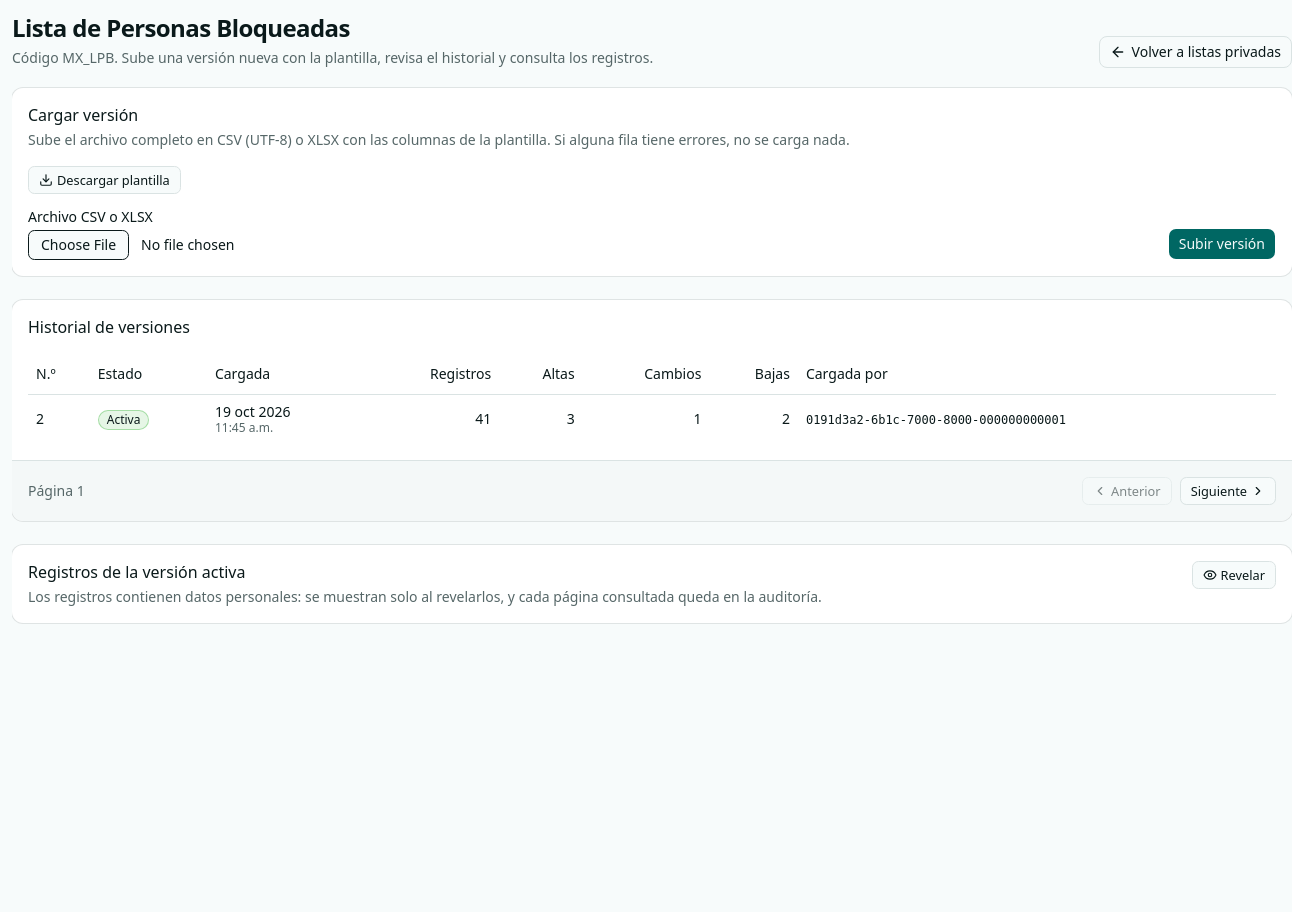
Test case: PrivateListPage: revealed entries › asks for each further page with its cursor, one audited view each
Click the button "Revelar".
click(1234, 575)  # box x1=1192 y1=561 x2=1276 y2=589
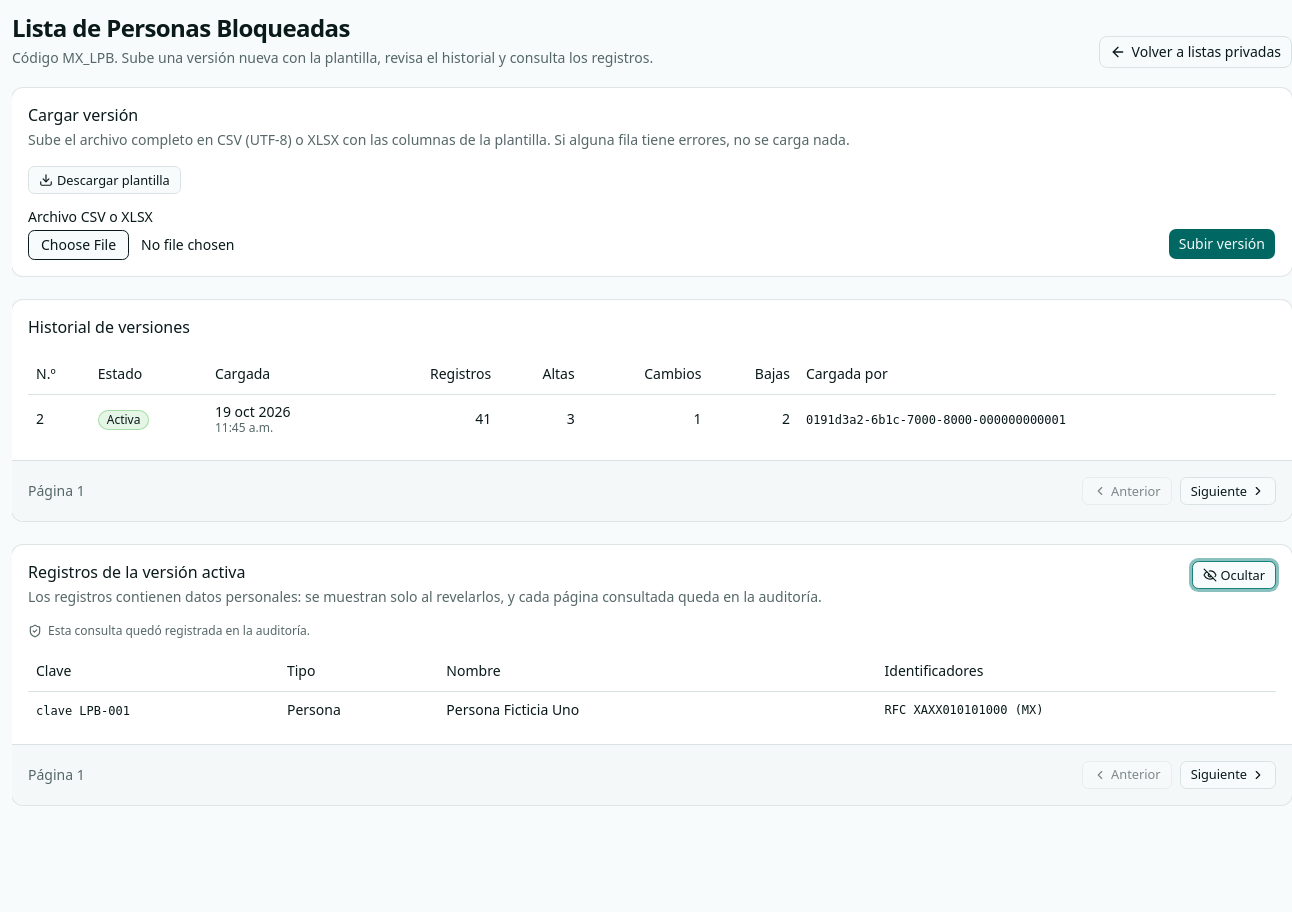
Expected: the text "clave LPB-001" is shown, x1=36 y1=704 x2=130 y2=718
Click the button "Siguiente" below "RFC XAXX010101000 (MX)".
click(1228, 774)  # box x1=1180 y1=760 x2=1276 y2=788
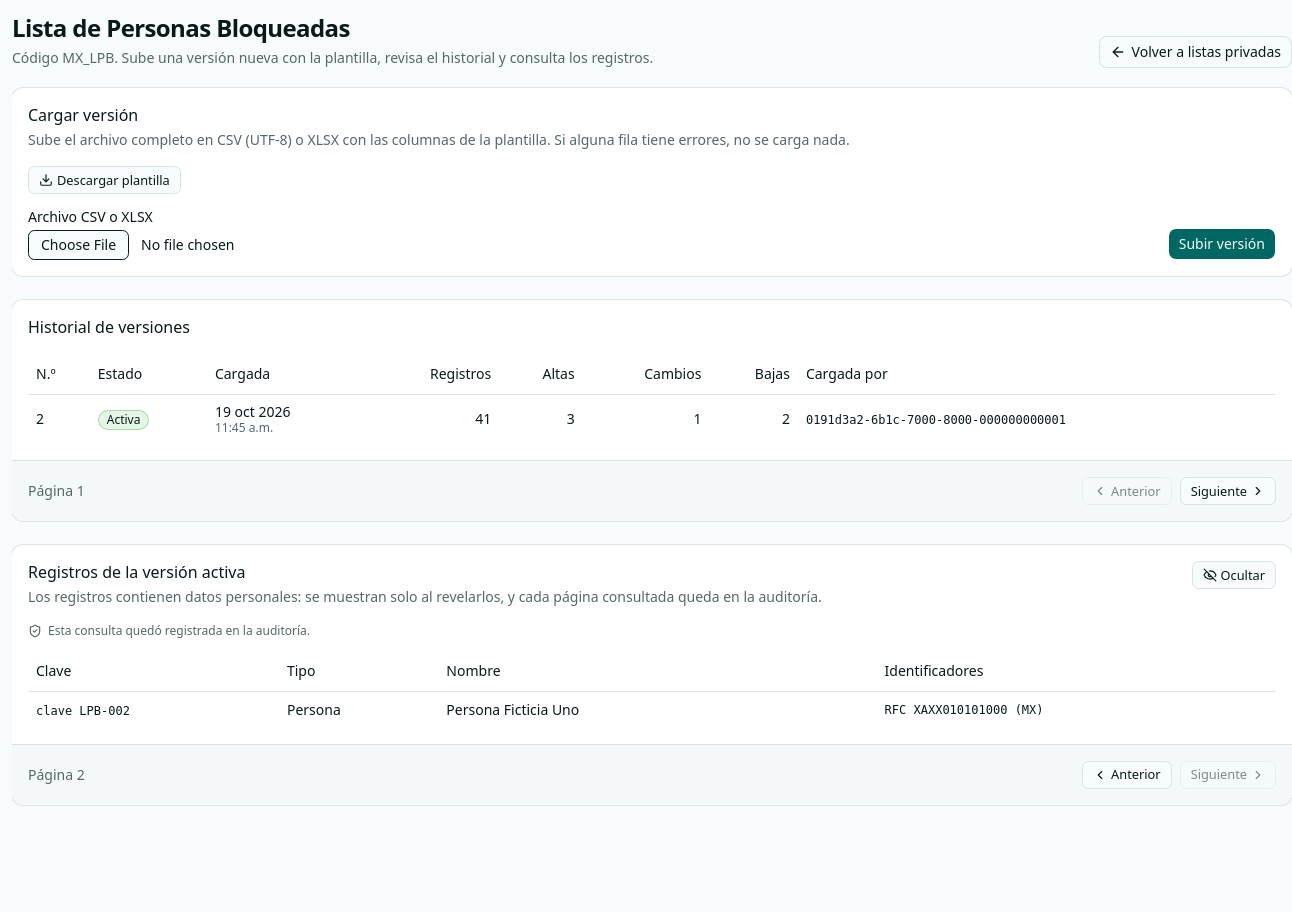
Expected: the text "clave LPB-002" is shown, x1=36 y1=704 x2=130 y2=718
